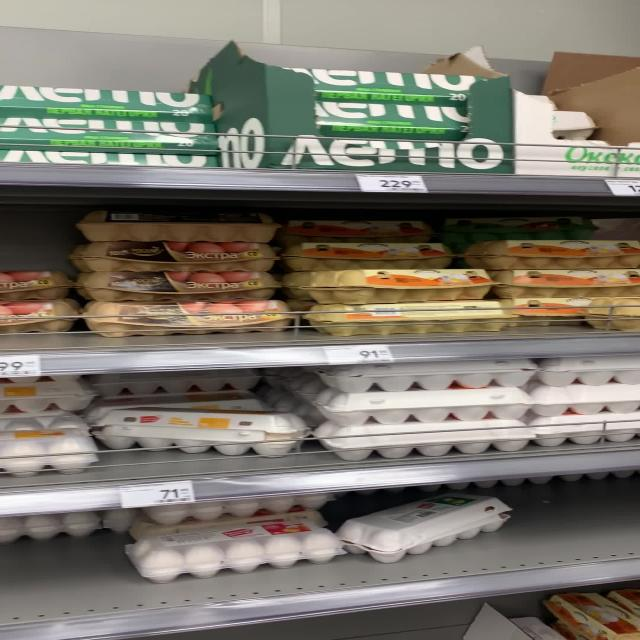egg box: (123, 515, 336, 581), (336, 491, 521, 561), (89, 406, 307, 458), (2, 79, 213, 125), (71, 197, 276, 242), (260, 96, 490, 136), (247, 65, 488, 102), (2, 112, 222, 152), (292, 299, 518, 333), (66, 236, 279, 272), (78, 298, 293, 332), (289, 265, 490, 300), (2, 140, 227, 171), (71, 268, 283, 300), (282, 238, 461, 268), (503, 293, 637, 333), (464, 235, 634, 266), (282, 209, 441, 241), (532, 588, 634, 637), (492, 267, 637, 297)
